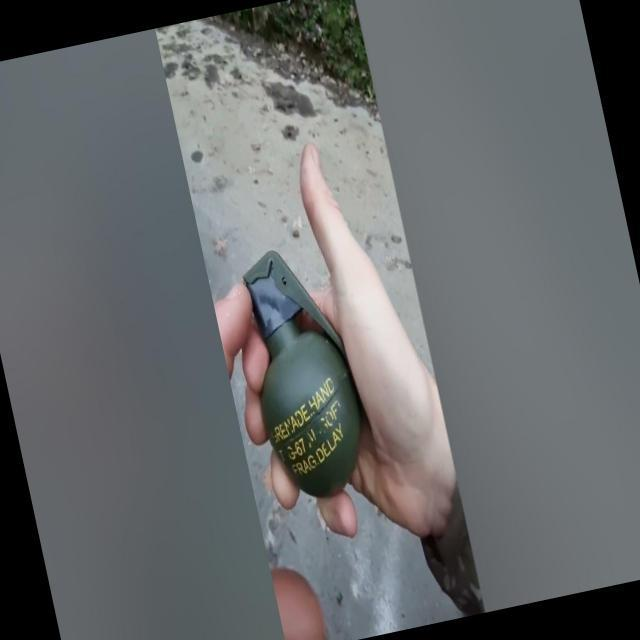grenade: (231, 243, 382, 502)
